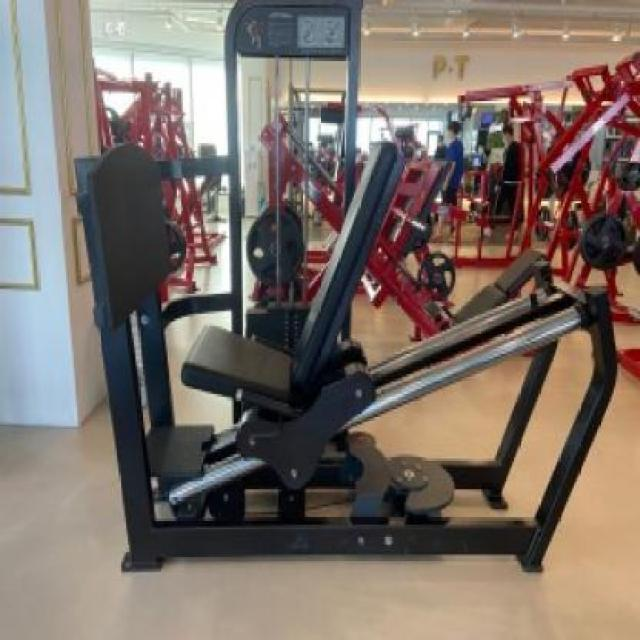leg press: (66, 0, 623, 589)
